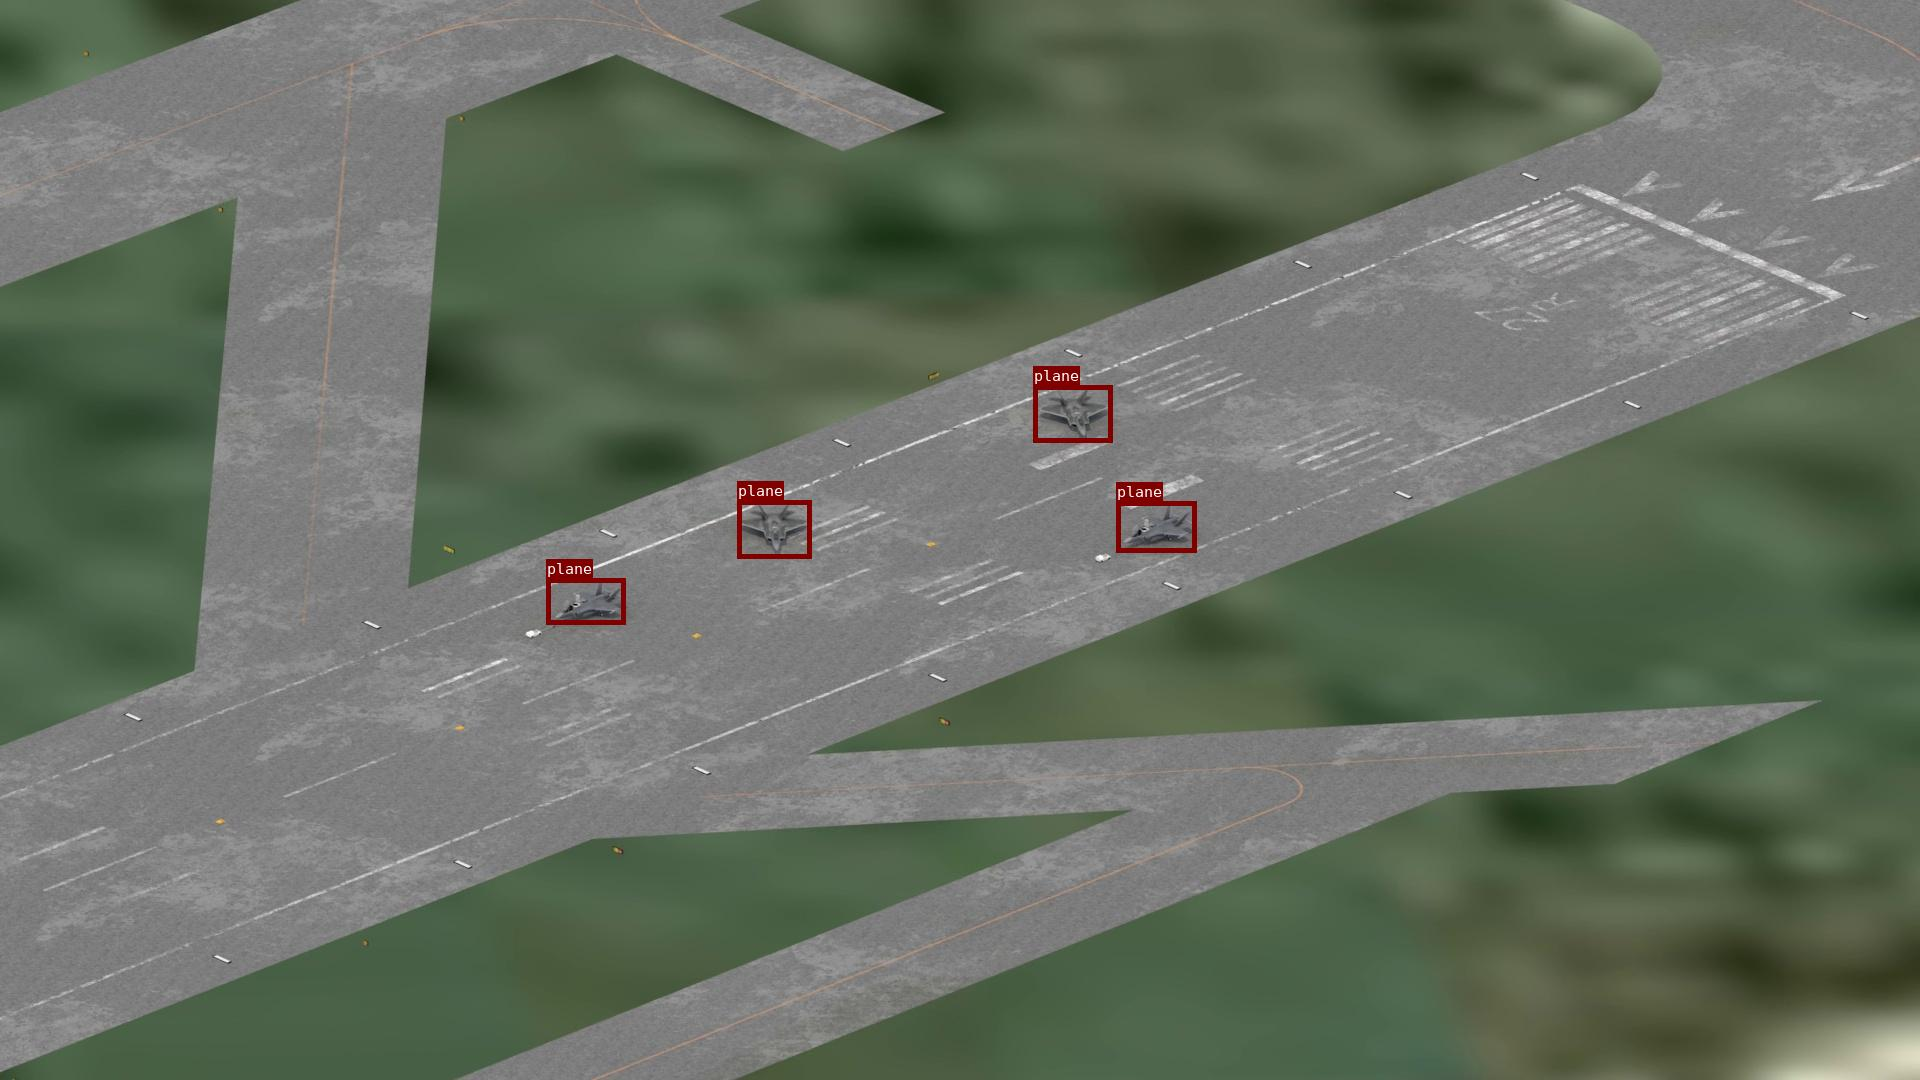plane: (1033, 385, 1112, 442), (737, 500, 811, 558), (1116, 501, 1196, 553), (546, 578, 625, 624)
